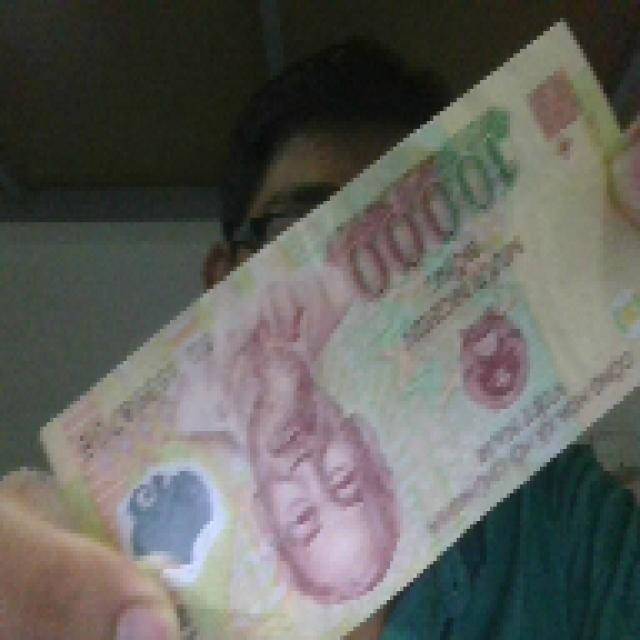10 000 VND: (36, 14, 636, 636)
